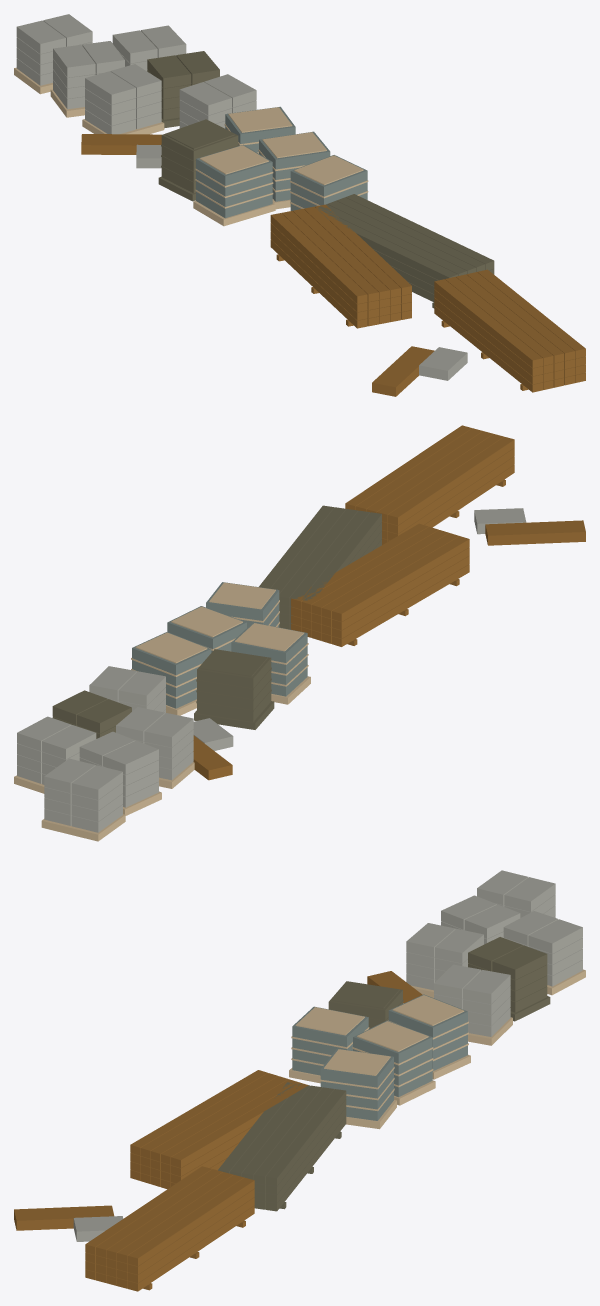
The model's file is SM_CargaMateriales_Danado_LOD0.fbx.
3 views of the same model, one above another, from view 1: azimuth 30°, elevation 25°; view 2: azimuth 150°, elevation 25°; view 3: azimuth 330°, elevation 25° (orthographic). The views are drawn at different scales.
Parts seen in each view (by area): view 1: SM_carga_vagon_v13_LOD0; view 2: SM_carga_vagon_v13_LOD0; view 3: SM_carga_vagon_v13_LOD0.
Boxes of the visible parts, x1=… form: SM_carga_vagon_v13_LOD0: x1=14, y1=14, x2=585, y2=396; SM_carga_vagon_v13_LOD0: x1=14, y1=425, x2=585, y2=841; SM_carga_vagon_v13_LOD0: x1=14, y1=870, x2=585, y2=1291.
Size of the model in its own units: 4.12 by 1.04 by 17.47.
